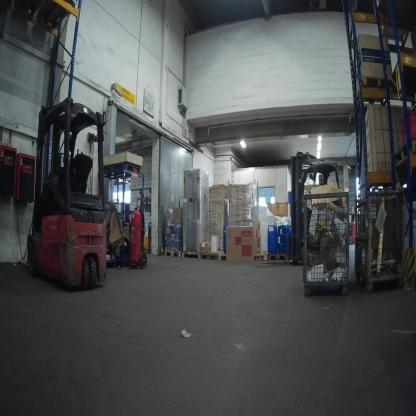pallets: (360, 68, 402, 96), (159, 247, 226, 261), (253, 251, 289, 262)
